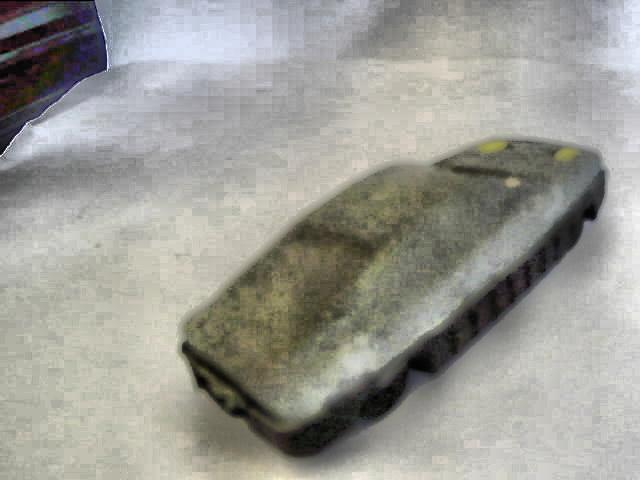normal_car: (176, 138, 606, 464)
